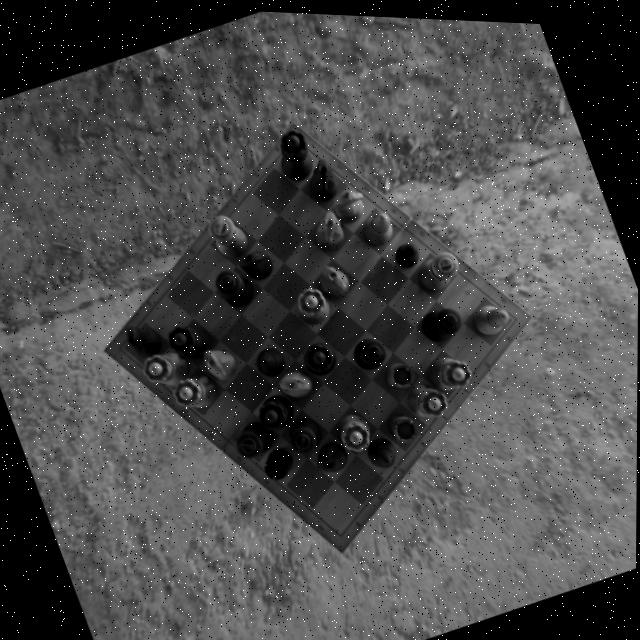chessboard: (120, 140, 511, 530)
